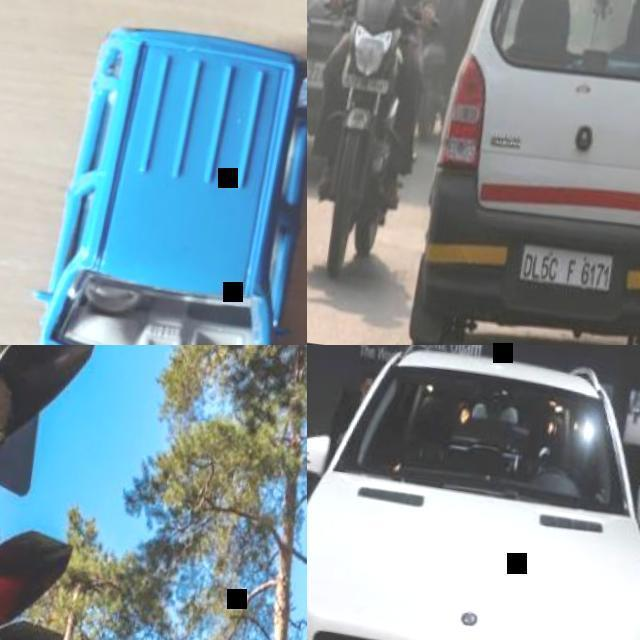car: (284, 336, 639, 639)
